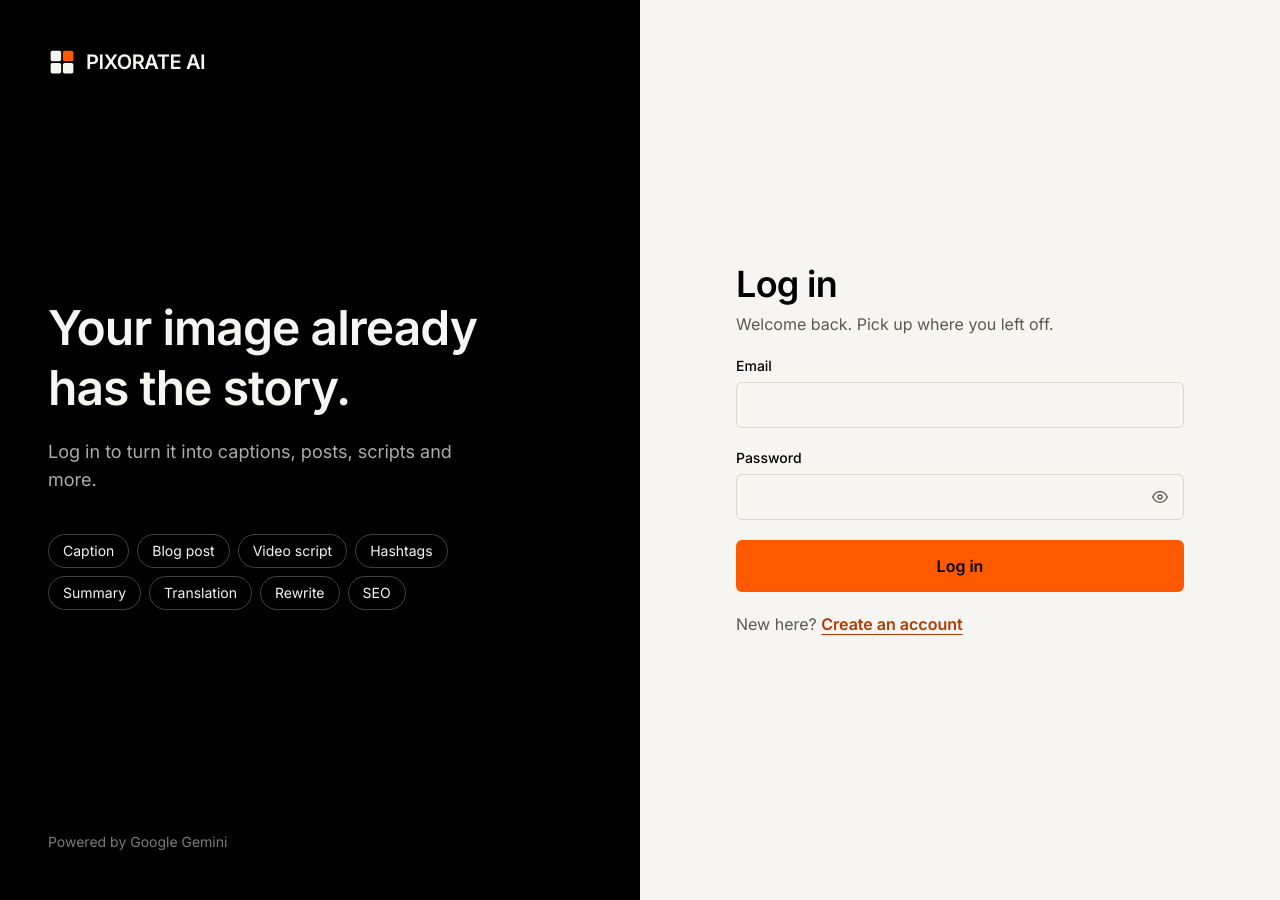
Test: auth › a failed login shows the server's message
The width and height of the screenshot is (1280, 900).
Type "a@b.co" into the field labelled "Email". click: (960,405)
box: [736,382,1184,428]
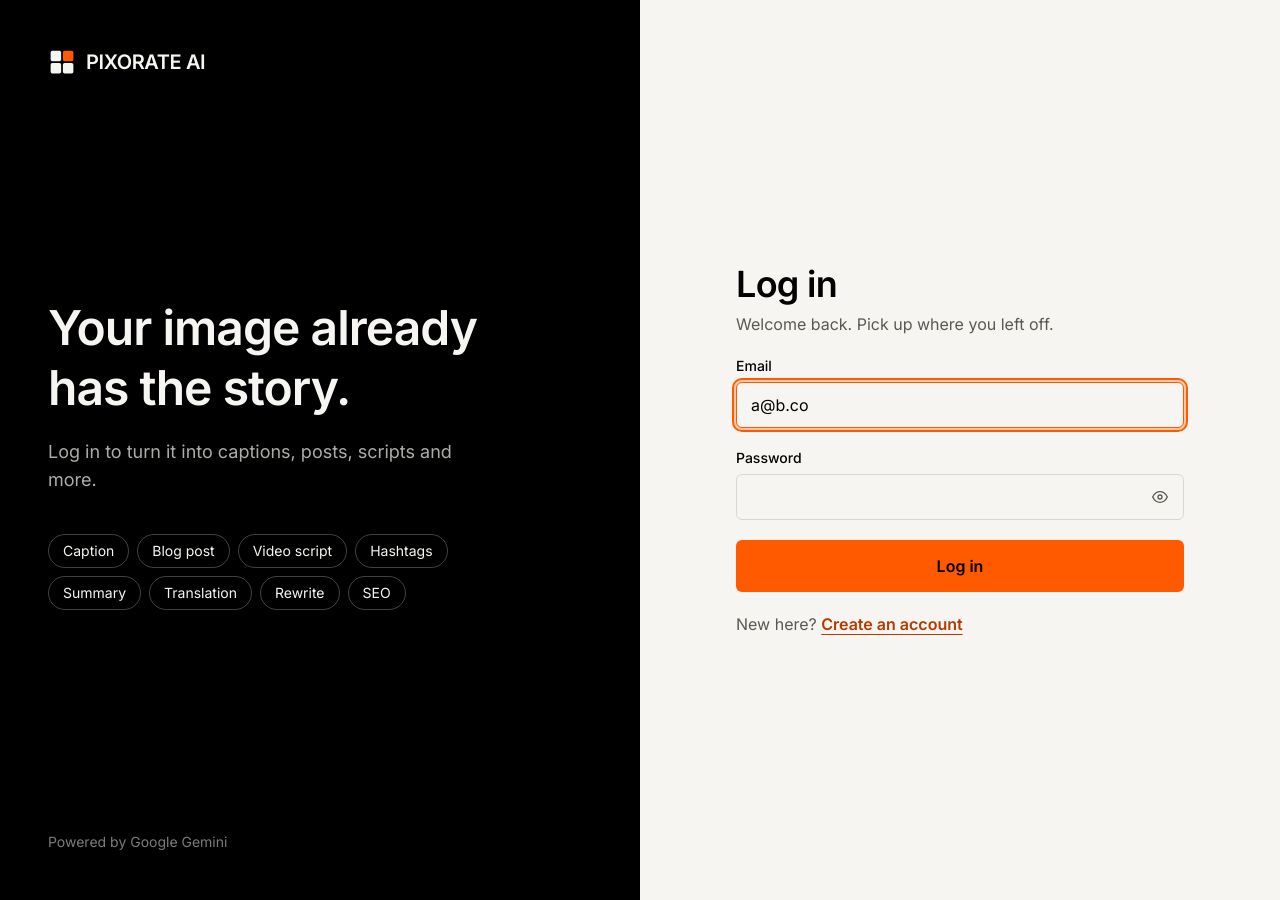
Type "wrongwrong" into the password field labelled "Password". click: (960,497)
box: [736,474,1184,520]
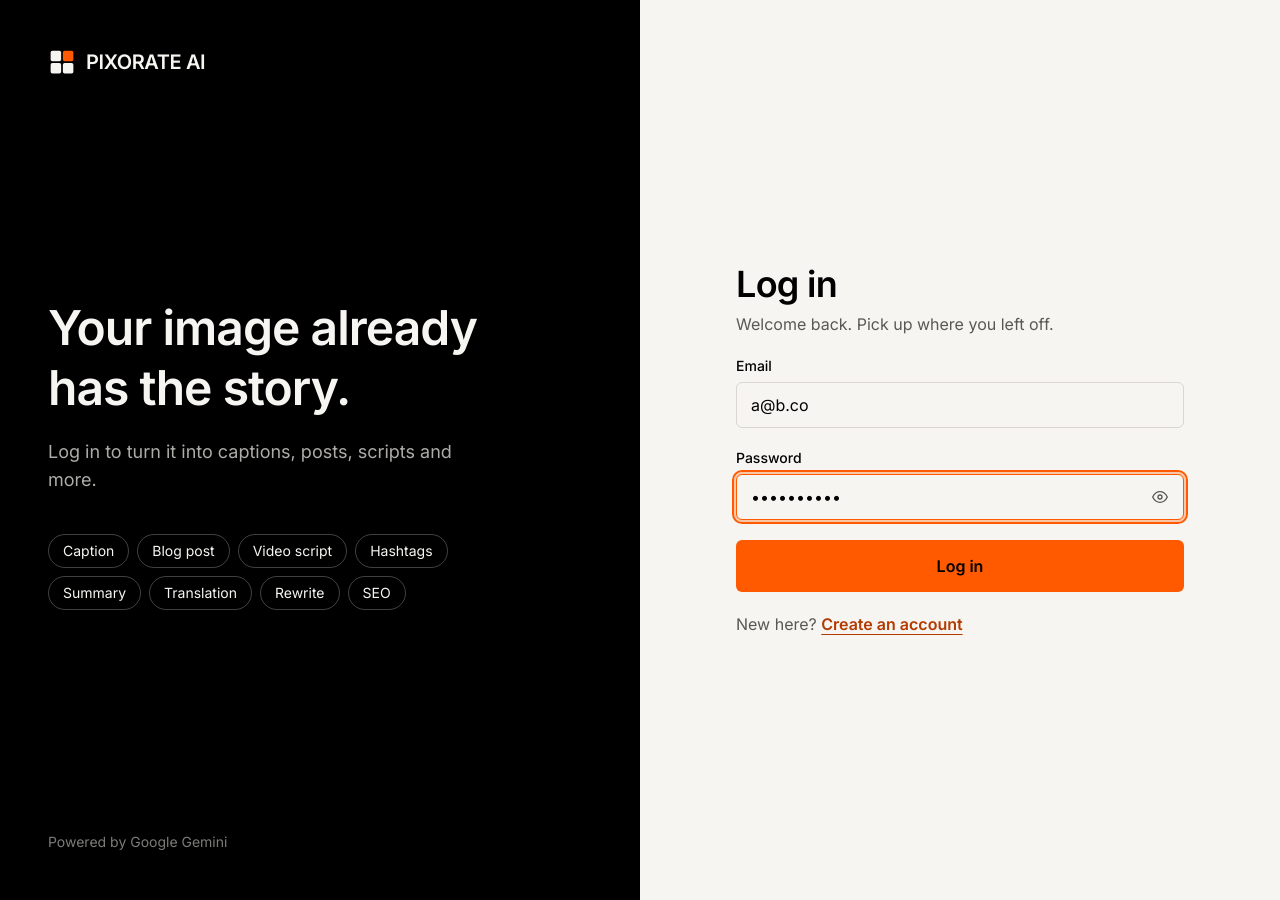
Click the button "Log in". click: (960,566)
box: [736,540,1184,592]
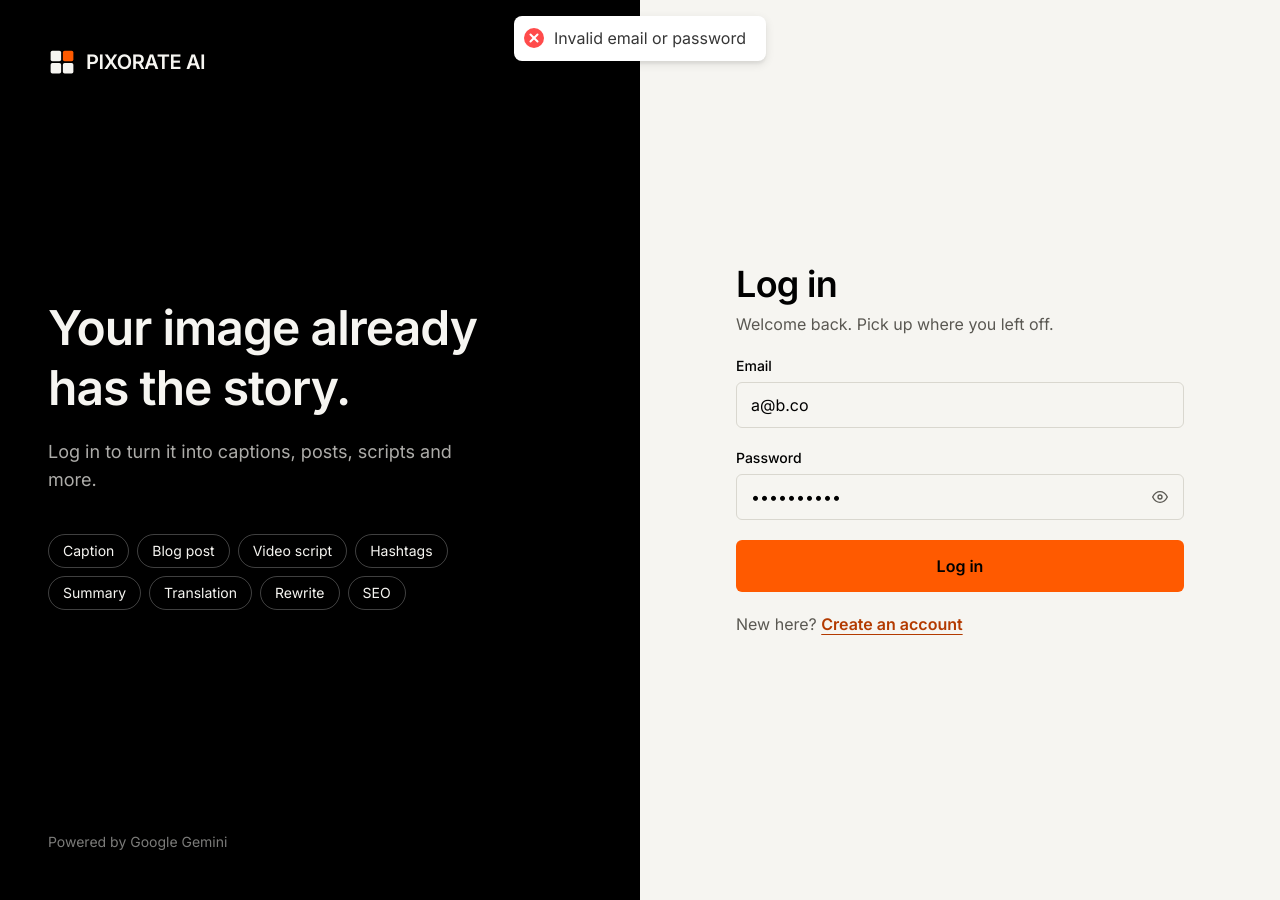
Result: the text "Invalid email or password" is shown at [554,28,746,49]
